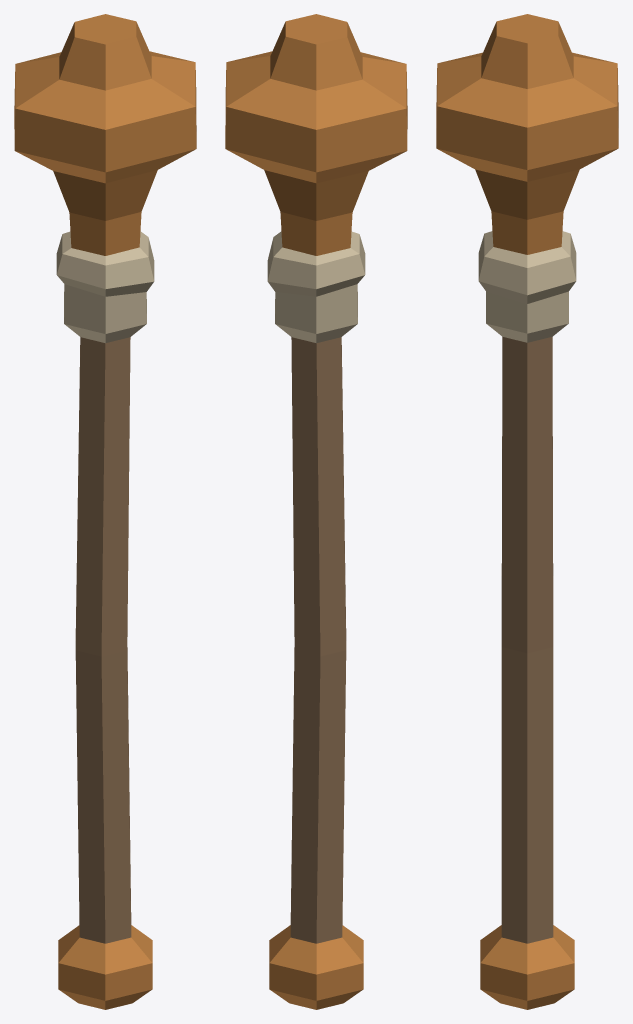
File: SM_pwe_fantasy_scepter_02.fbx
3 views of the same model, side by side, from view 1: azimuth 30°, elevation 25°; view 2: azimuth 150°, elevation 25°; view 3: azimuth 270°, elevation 25° (orthographic).
Visible parts, largest first — view 1: SM_pwe_fantasy_scepter_02; view 2: SM_pwe_fantasy_scepter_02; view 3: SM_pwe_fantasy_scepter_02.
Boxes of the visible parts, bbox=[...] form: SM_pwe_fantasy_scepter_02: bbox=[14, 14, 196, 1009]; SM_pwe_fantasy_scepter_02: bbox=[225, 14, 407, 1009]; SM_pwe_fantasy_scepter_02: bbox=[436, 14, 618, 1009].
Bounding box in the file's own units: 15.78 × 80.18 × 13.66.
